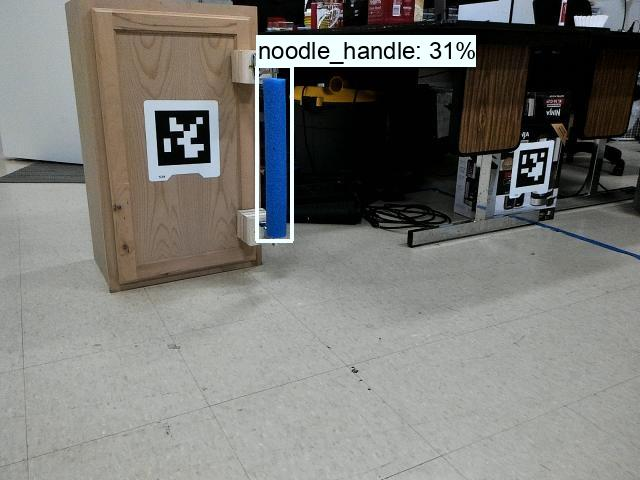noodle_handle: (254, 69, 291, 241)
